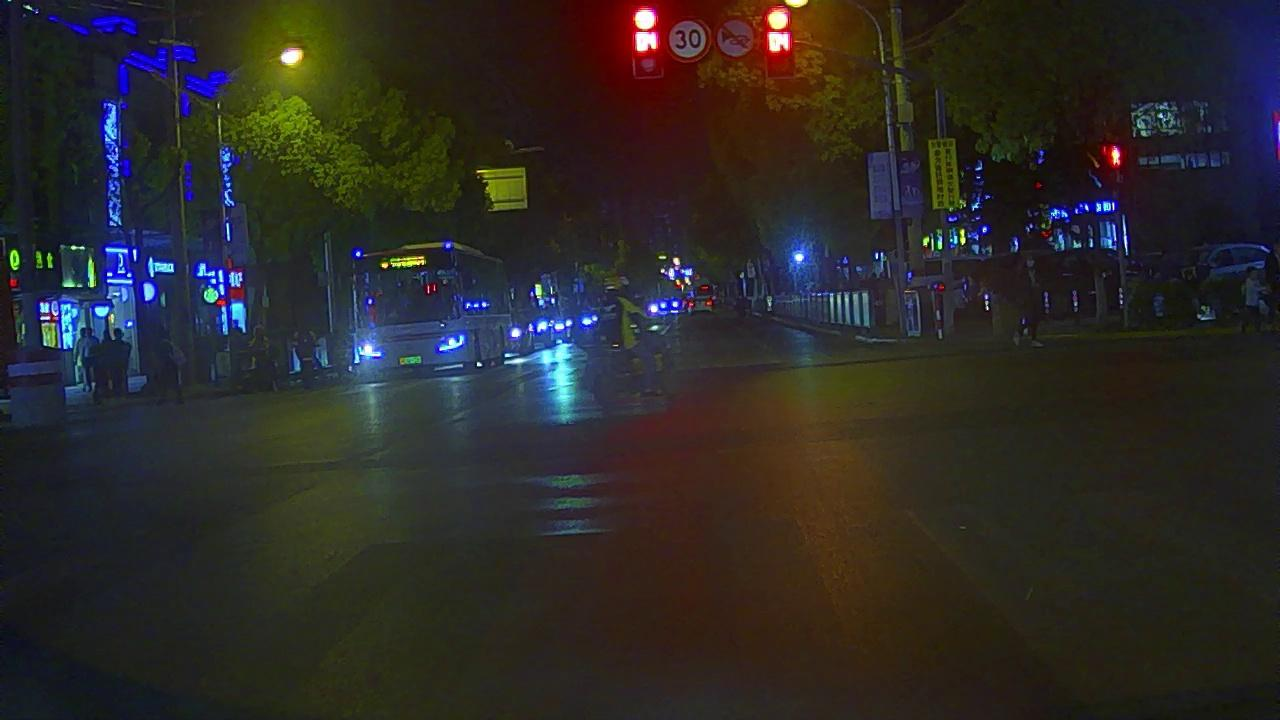traffic_light: (632, 3, 663, 79), (764, 2, 794, 79)
